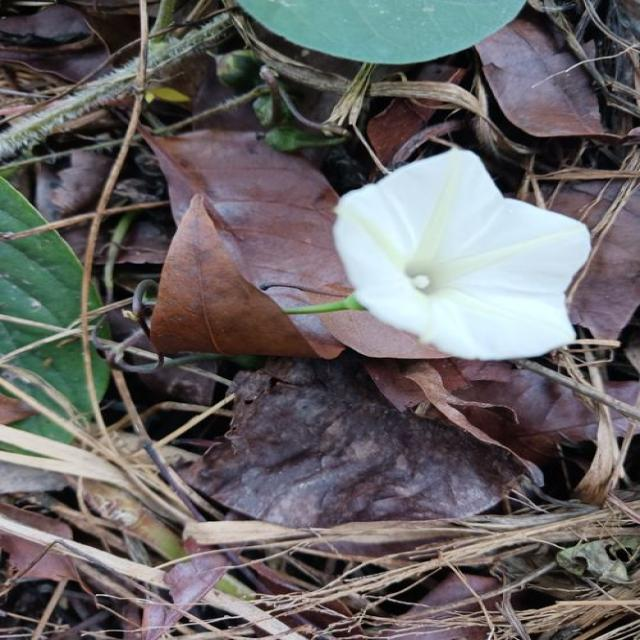ipomoea: (325, 145, 595, 364)
